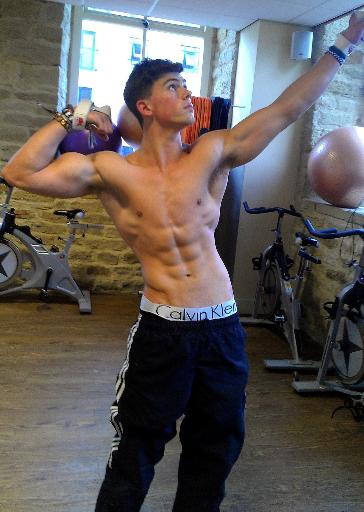right_eye: (167, 83, 177, 93)
right_lip_corner: (182, 107, 187, 112)
